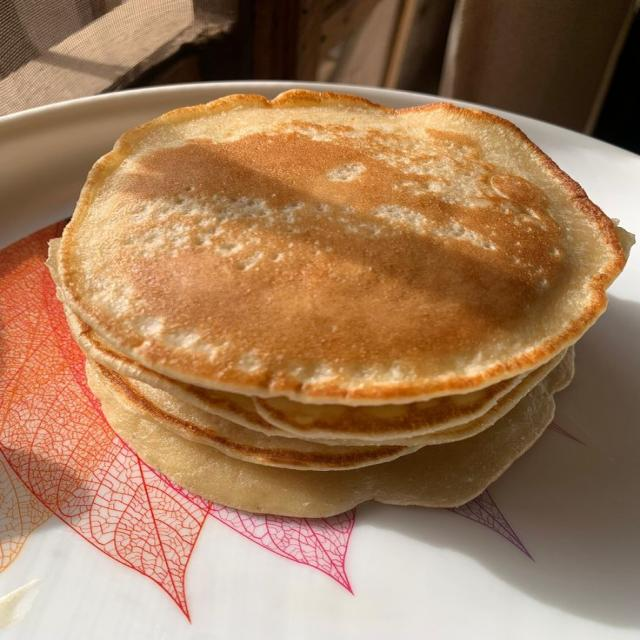pancake: (60, 91, 625, 405), (89, 360, 572, 517), (65, 306, 524, 444), (87, 361, 419, 471), (57, 287, 288, 437), (254, 370, 536, 442)
